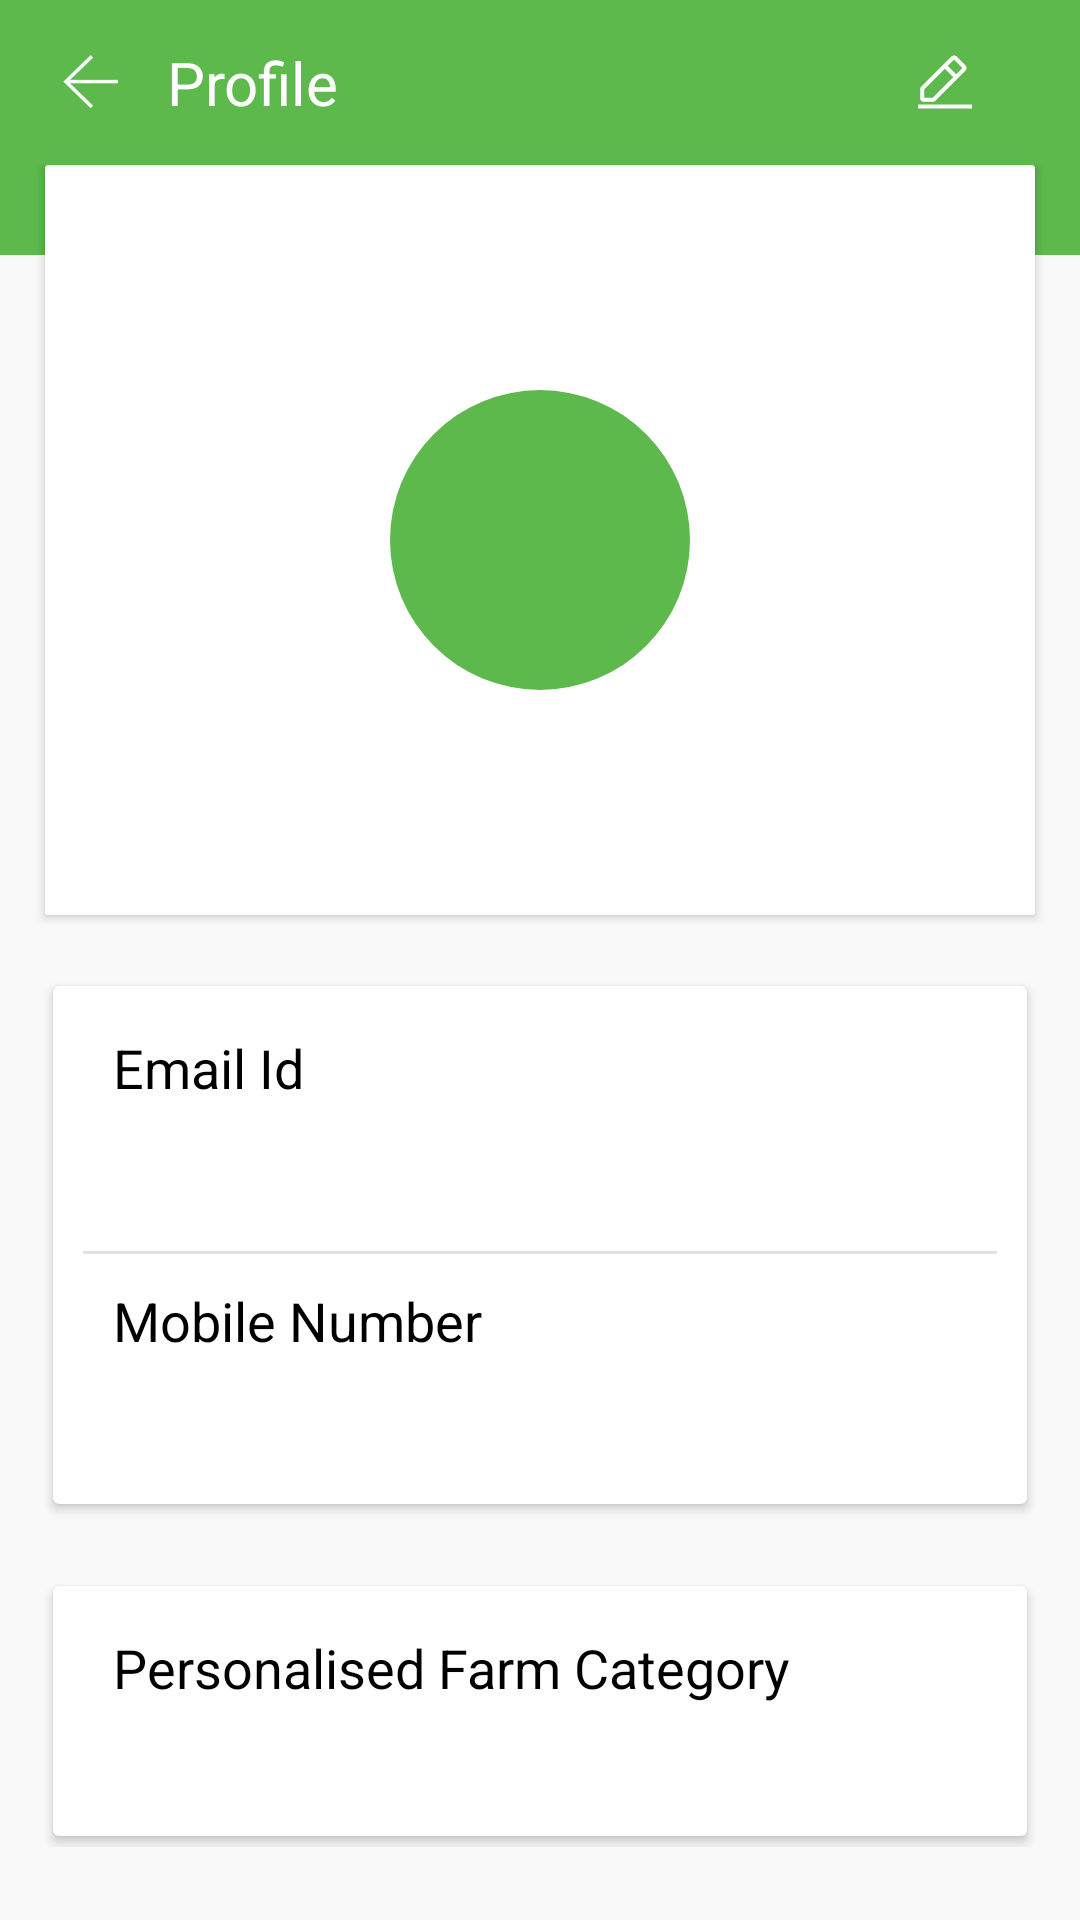

Icon bounding boxes for this 1080*1920 phone screenshot, format (x1, y1, x2, y2):
back: (63, 55, 118, 108)
edit: (918, 55, 972, 109)
